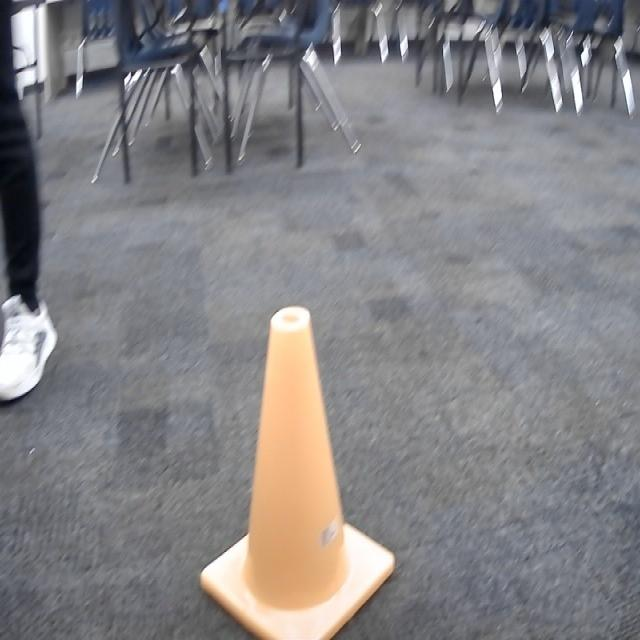cone: (198, 305, 396, 640)
